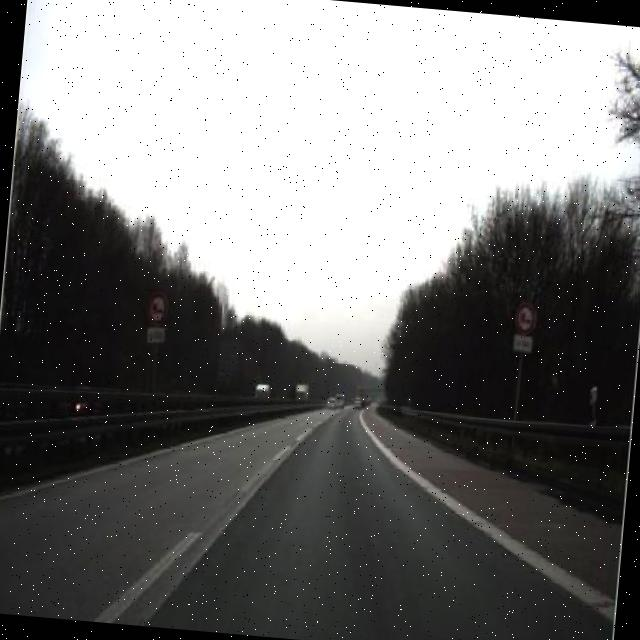Zakaz wyprzedzania: (144, 287, 172, 327), (509, 298, 538, 336)
